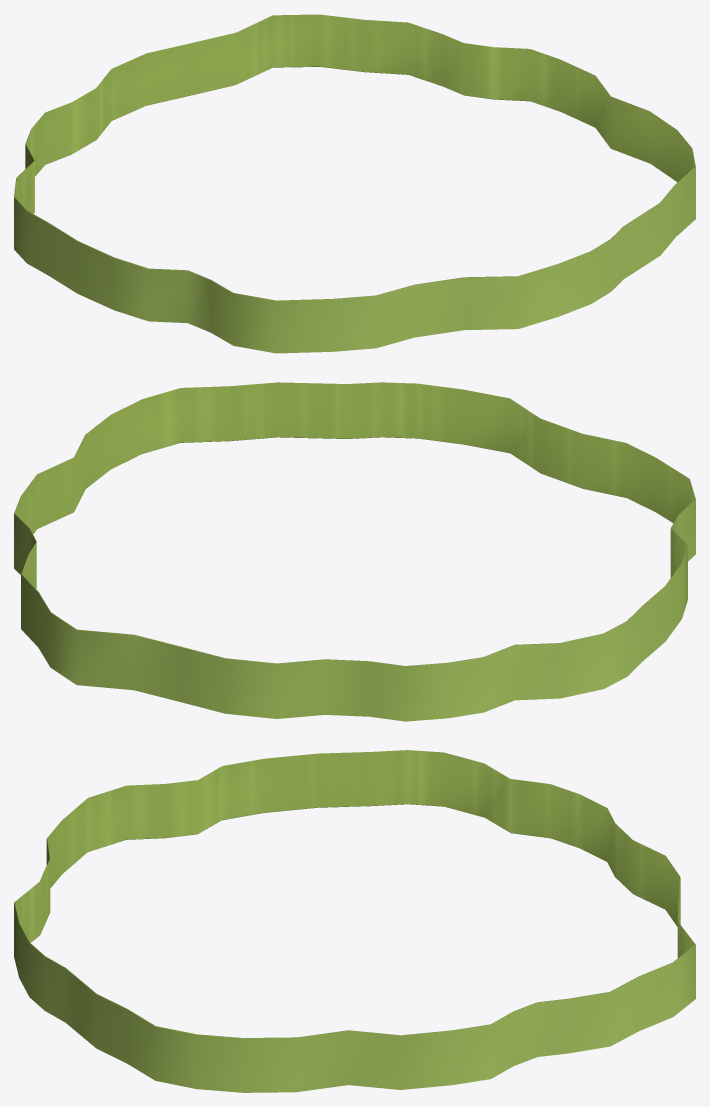
The model's file is islandWalls.fbx.
3 views of the same model, one above another, from view 1: azimuth 30°, elevation 25°; view 2: azimuth 150°, elevation 25°; view 3: azimuth 270°, elevation 25° (orthographic). The views are drawn at different scales.
Parts seen in each view (by area): view 1: islandWalls; view 2: islandWalls; view 3: islandWalls.
Part boxes in pixels (left/top/right/bottom): islandWalls: left=14, top=14, right=695, bottom=353; islandWalls: left=14, top=382, right=695, bottom=721; islandWalls: left=14, top=750, right=695, bottom=1092.
Size of the model in its own units: 26420 by 2328 by 26386.
